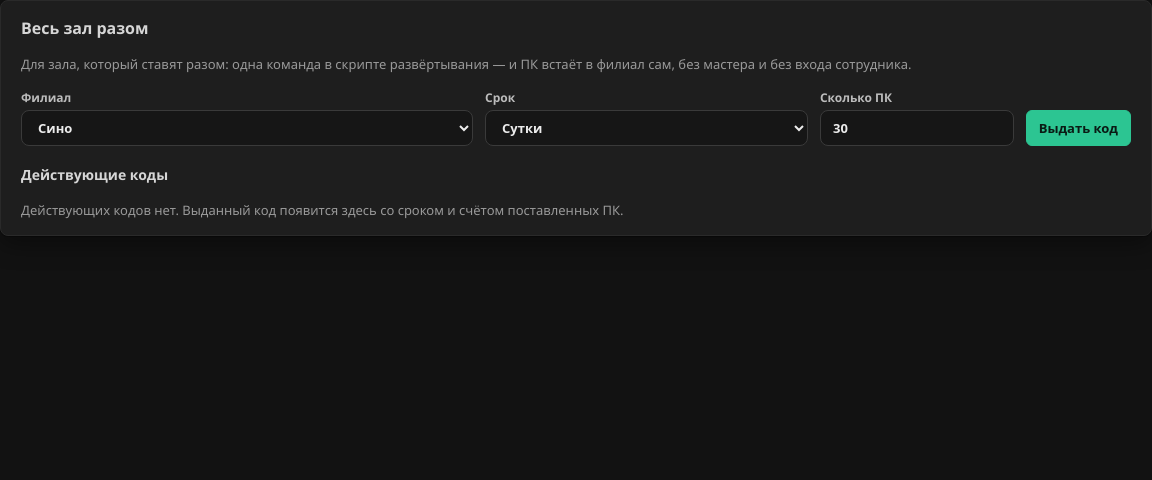
InstallCodesSection › switching the branch hides the code issued for another one
Check: the text "Действующих кодов нет." is shown, box [21, 201, 179, 219]
Click the button "Выдать код": (1078, 128) [1026, 110, 1131, 146]
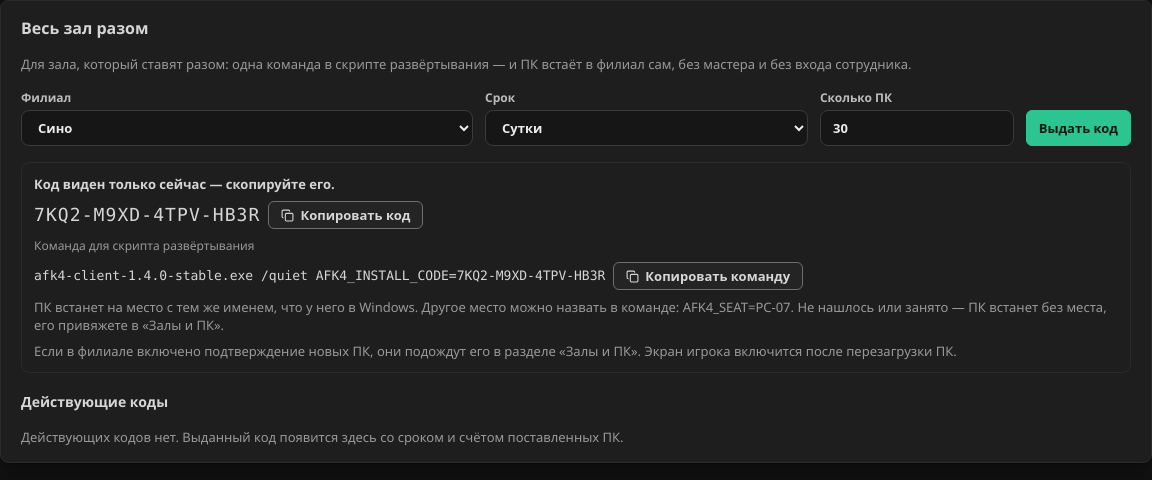
Check: the text "7KQ2-M9XD-4TPV-HB3R" is shown, box [34, 204, 260, 226]
Select "Центр" in the dropdown labelled "Филиал": (247, 128) [21, 110, 473, 146]
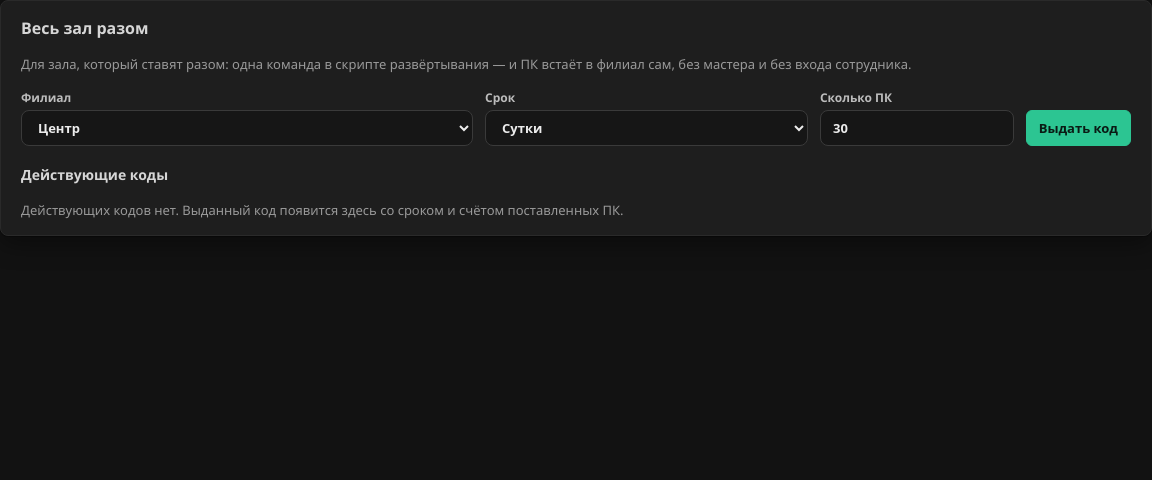
Check: the text "7KQ2-M9XD-4TPV-HB3R" is gone
